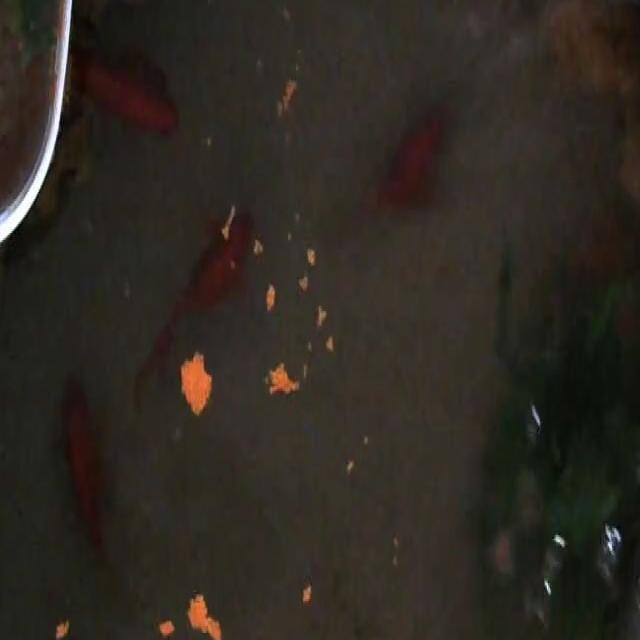fish: (132, 206, 256, 411), (65, 40, 181, 138), (365, 98, 453, 218), (59, 374, 112, 556)
